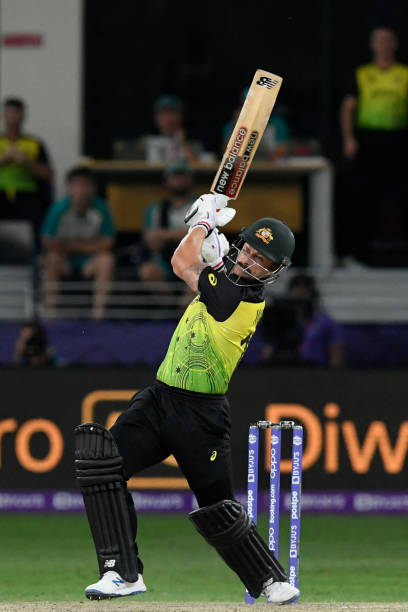bottom left: (275, 70, 289, 91)
bottom right: (254, 62, 269, 84)
top left: (232, 185, 244, 205)
top right: (204, 176, 218, 198)
